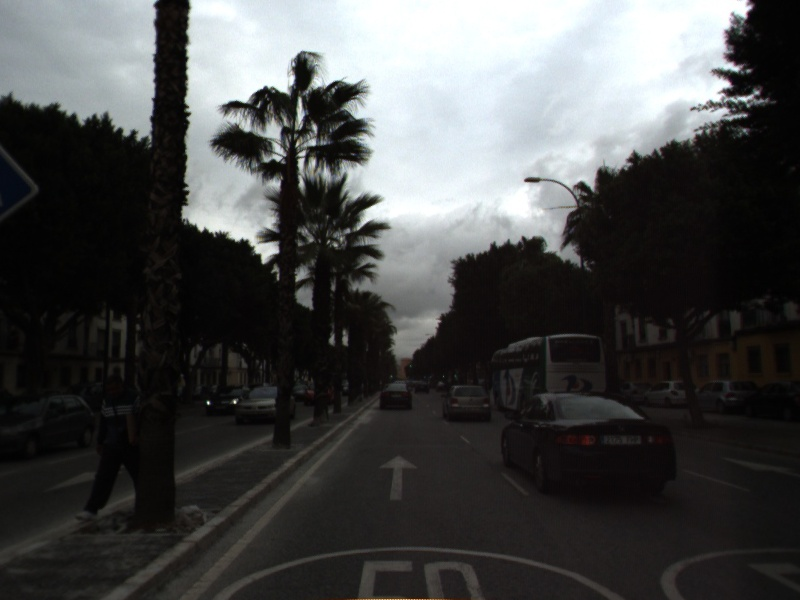STRAIGHT: (377, 452, 421, 503), (720, 455, 800, 479)
